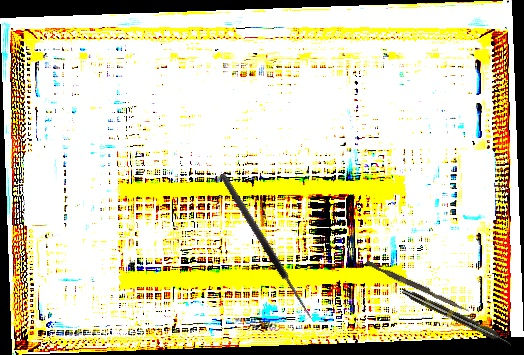Handpiece: (400, 286, 514, 349)
Hook Surgical: (217, 167, 323, 322)
Pusher: (364, 260, 472, 313)
